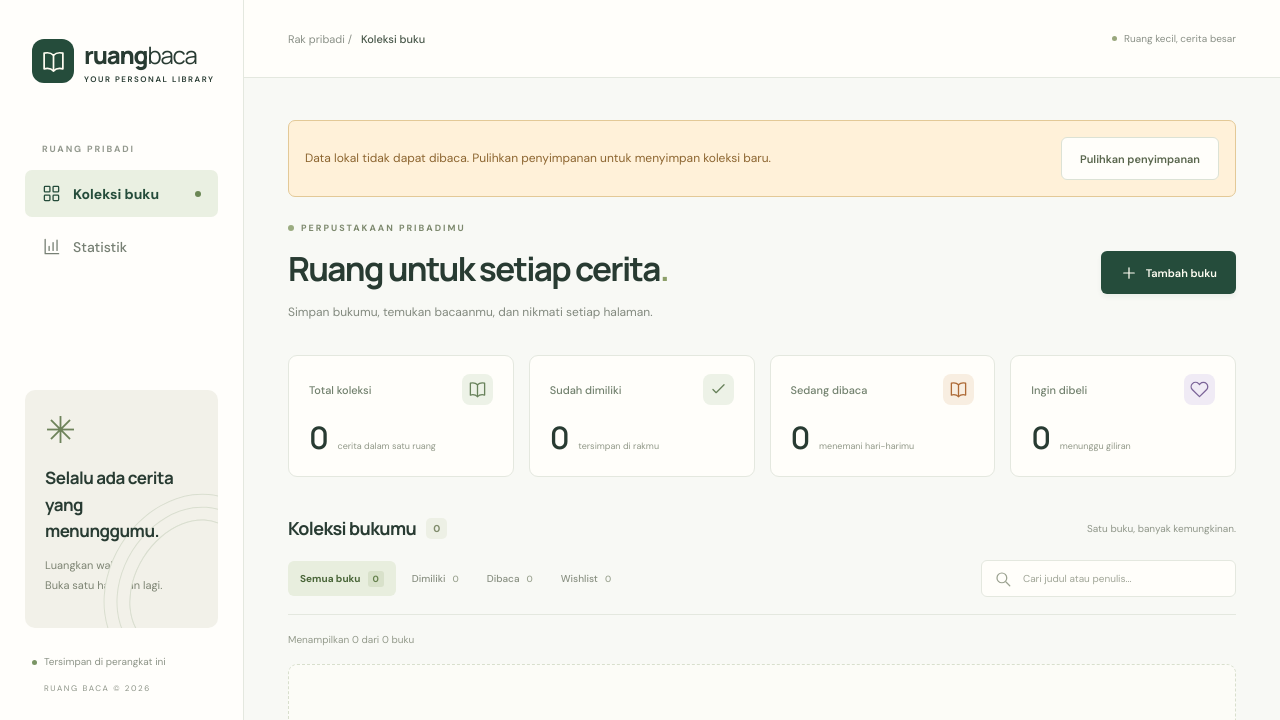
Test: Aplikasi manajemen buku › data JSON rusak tidak menyebabkan crash atau ditimpa sebelum pemulihan
The image size is (1280, 720).
expect the message shows "Data lokal tidak dapat dibaca": met, box [305,150,771,166]
What coordinates should you click on to do the following:
click the button "Pulihkan penyimpanan"
I would click on:
 (1140, 158)
Its box is [1061,137,1219,180].
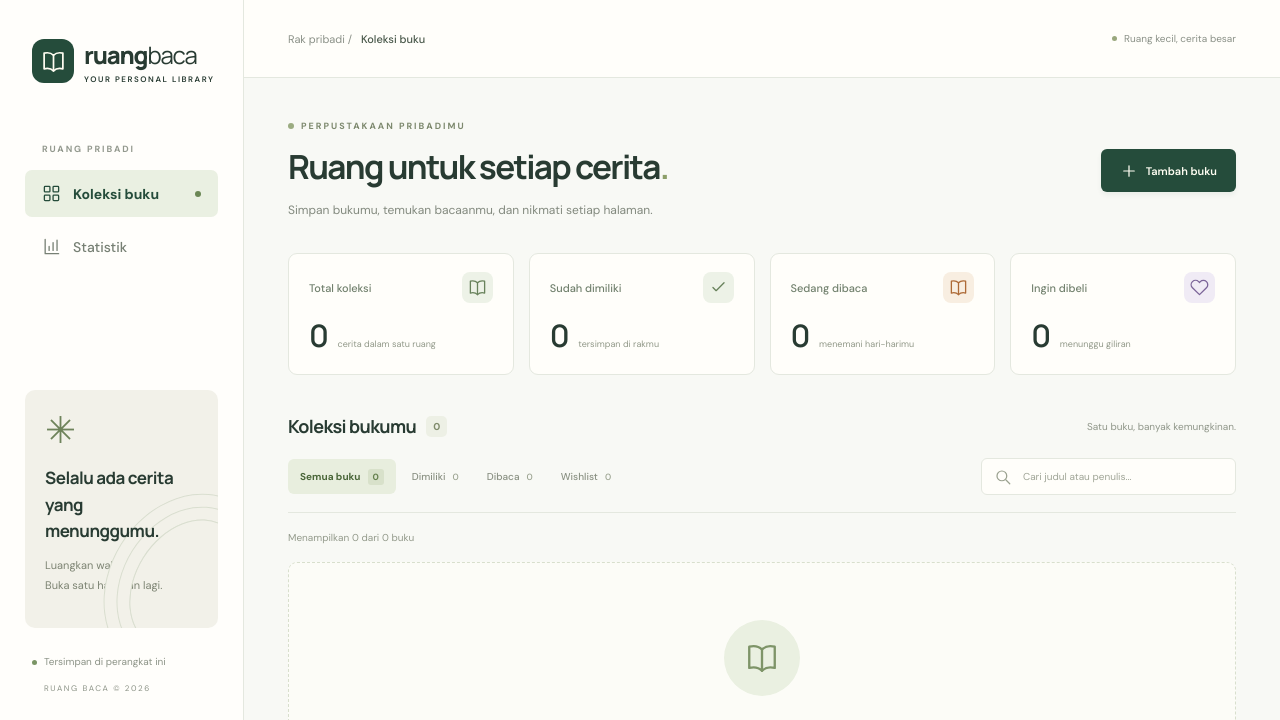
expect the message is gone: met
